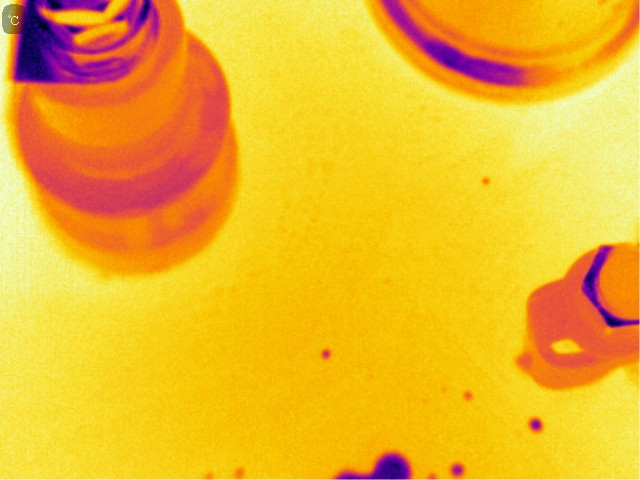Water: (332, 451, 415, 480), (457, 384, 483, 412), (226, 458, 247, 479), (191, 469, 217, 479), (481, 176, 502, 188), (528, 417, 543, 432), (452, 463, 467, 477), (320, 349, 332, 361)
